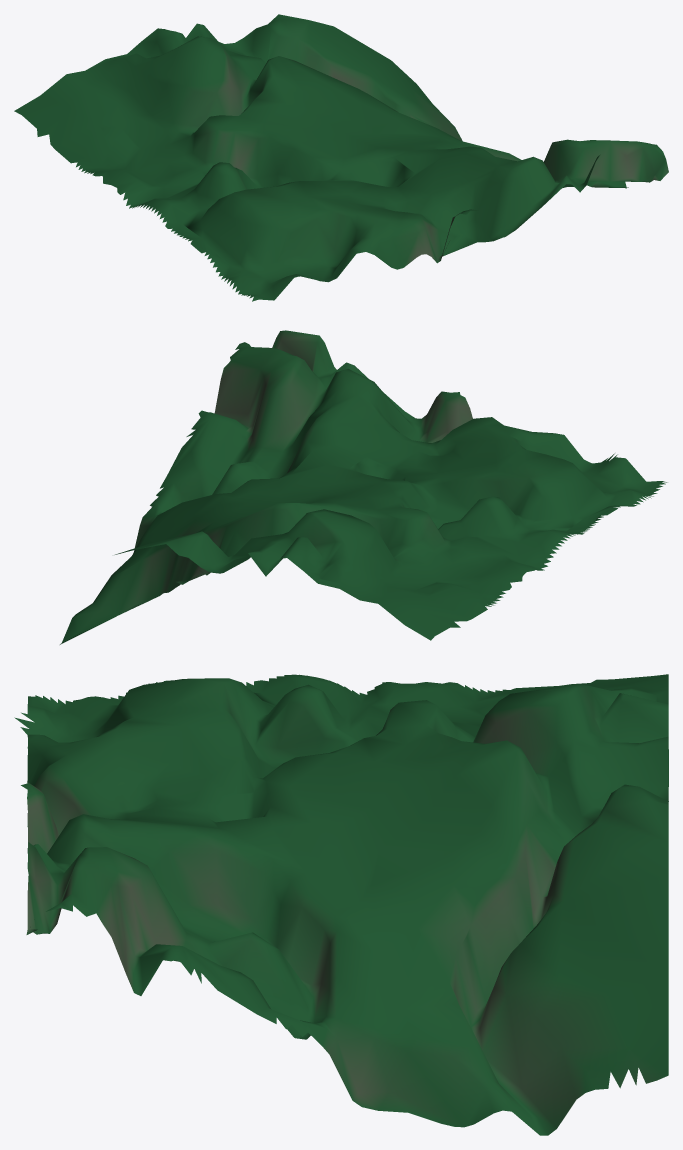
Rendered from payo_land_x1_y3_lod2.glb.
The picture shows the model from 3 angles, top to bottom: view 1: azimuth 30°, elevation 25°; view 2: azimuth 150°, elevation 25°; view 3: azimuth 270°, elevation 25°; orthographic projection. The views are drawn at different scales.
Parts seen in each view (by area): view 1: payo_land_x1_y3; view 2: payo_land_x1_y3; view 3: payo_land_x1_y3.
Part boxes in pixels (x1,y1,x2,y2): payo_land_x1_y3: (14, 14, 668, 301); payo_land_x1_y3: (60, 330, 667, 644); payo_land_x1_y3: (14, 674, 668, 1135).
Bounding box in the file's own units: 261 × 120 × 261.
